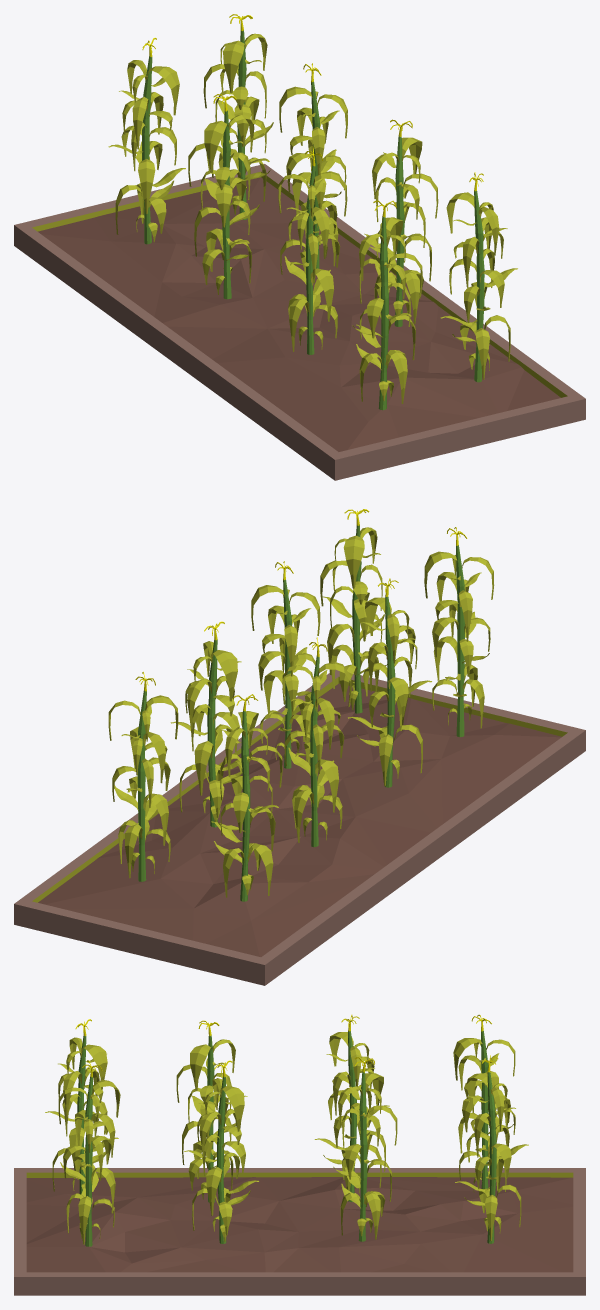
File: milho.glb
3 renders of one model, top to bottom at view 1: azimuth 30°, elevation 25°; view 2: azimuth 150°, elevation 25°; view 3: azimuth 270°, elevation 25°, orthographic. The views are drawn at different scales.
Parts seen in each view (by area): view 1: Cube.010; view 2: Cube.010; view 3: Cube.010.
Boxes of the visible parts, bbox=[...] form: Cube.010: bbox=[14, 14, 585, 480]; Cube.010: bbox=[14, 509, 585, 985]; Cube.010: bbox=[14, 1014, 585, 1295].
Size of the model in its own units: 5.73 by 4.99 by 12.7.
Materials: 1 (1 with a texture image).
